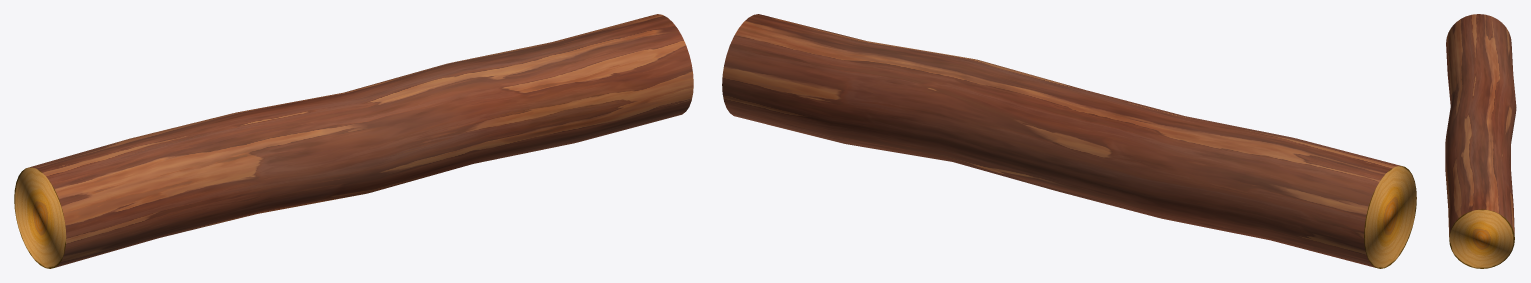
Rendered from Log.fbx.
3 views of the same model, side by side, from view 1: azimuth 30°, elevation 25°; view 2: azimuth 150°, elevation 25°; view 3: azimuth 270°, elevation 25° (orthographic). The views are drawn at different scales.
Parts seen in each view (by area): view 1: Cylinder; view 2: Cylinder; view 3: Cylinder.
Boxes of the visible parts, bbox=[...] form: Cylinder: bbox=[14, 14, 693, 268]; Cylinder: bbox=[722, 14, 1416, 268]; Cylinder: bbox=[1445, 14, 1516, 268].
Size of the model in its own units: 13.98 by 2.16 by 2.15.
2 materials, 2 textured.
